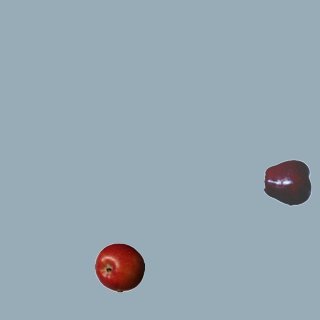Apple Braeburn: (94, 242, 144, 292)
Apple Red Delicious: (263, 157, 313, 207)
